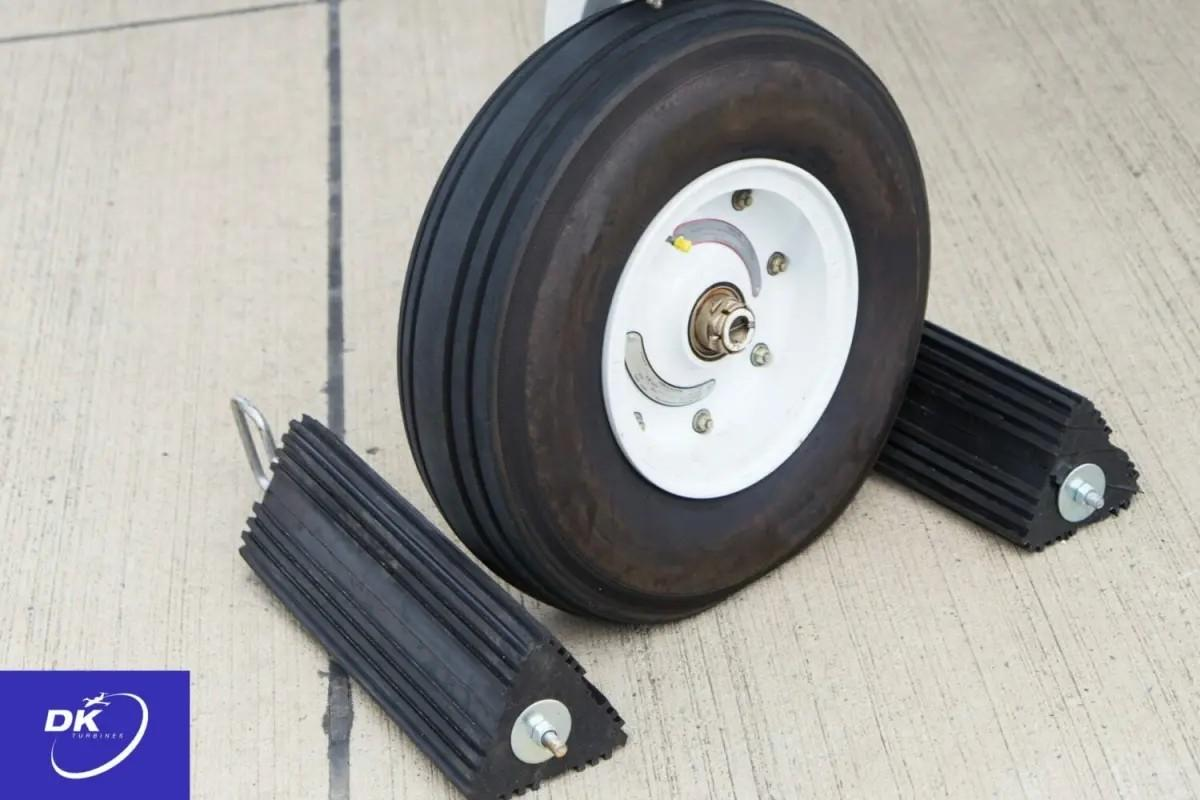boots: (189, 410, 631, 800), (831, 290, 1144, 560)
wheels: (404, 1, 929, 619)
